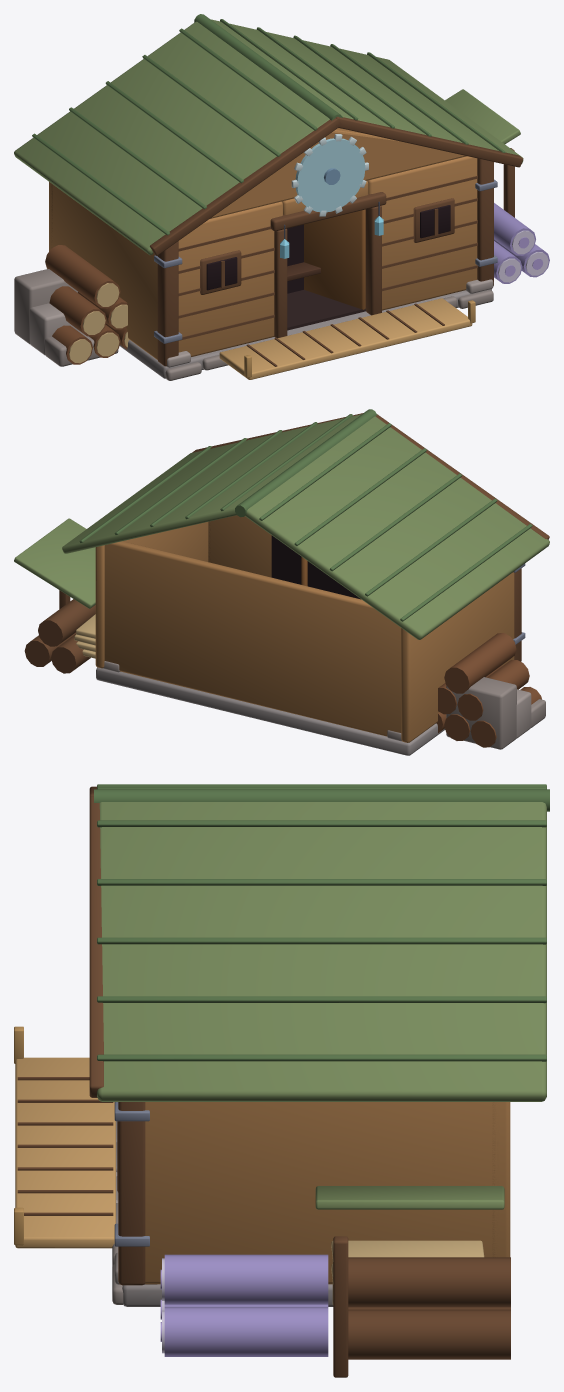
Rendered from sawmill3.glb.
The picture shows the model from 3 angles, top to bottom: view 1: azimuth 30°, elevation 25°; view 2: azimuth 150°, elevation 25°; view 3: azimuth 270°, elevation 25°; orthographic projection. The views are drawn at different scales.
Parts seen in each view (by area): view 1: base, plank-deck, crystal-blade, glimwood-logs; view 2: base; view 3: base, plank-deck, glimwood-logs.
Boxes of the visible parts, x1=… form: base: x1=14, y1=14, x2=523, y2=380; plank-deck: x1=219, y1=298, x2=475, y2=379; crystal-blade: x1=280, y1=134, x2=383, y2=258; glimwood-logs: x1=494, y1=203, x2=549, y2=283; base: x1=14, y1=409, x2=549, y2=755; base: x1=89, y1=784, x2=549, y2=1377; plank-deck: x1=14, y1=1026, x2=115, y2=1248; glimwood-logs: x1=160, y1=1254, x2=328, y2=1356.
Bounding box in the file's own units: 7.32 × 3.38 × 4.26.
